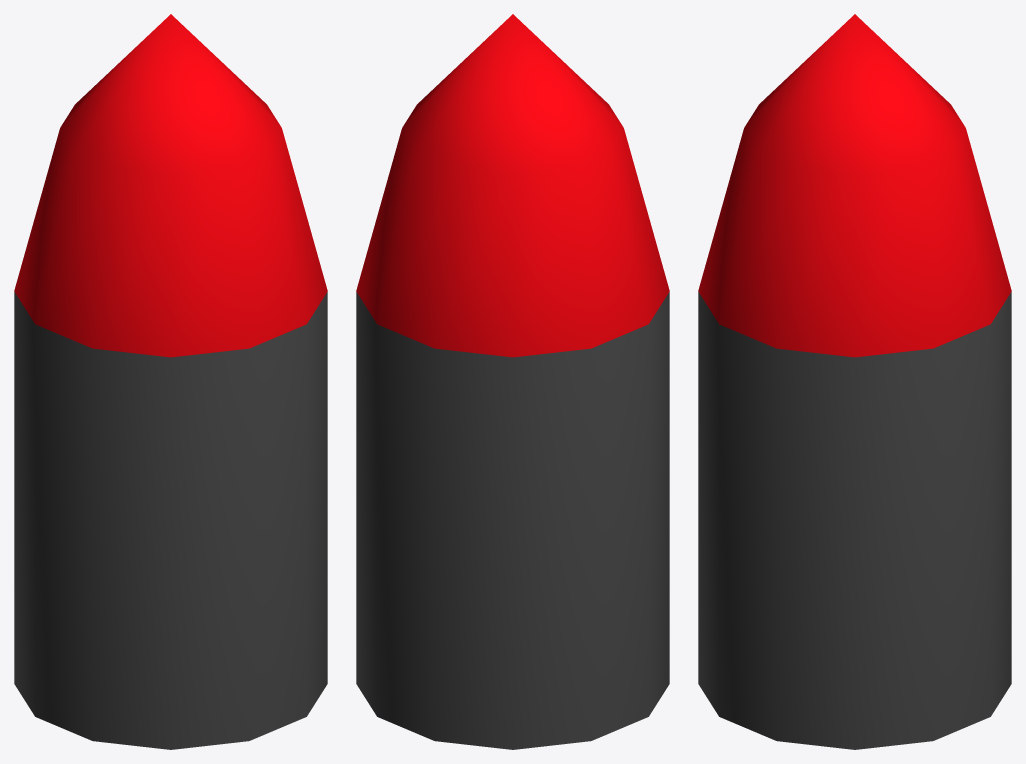
Rendered from bullet.fbx.
The picture shows the model from 3 angles, left to right: view 1: azimuth 30°, elevation 25°; view 2: azimuth 150°, elevation 25°; view 3: azimuth 270°, elevation 25°; orthographic projection.
Visible parts, largest first — view 1: bullet; view 2: bullet; view 3: bullet.
Part boxes in pixels (<box>): bullet: <box>14,14,327,749</box>; bullet: <box>356,14,669,749</box>; bullet: <box>698,14,1011,749</box>.
Size of the model in its own units: 19.93 by 46.96 by 19.93.
